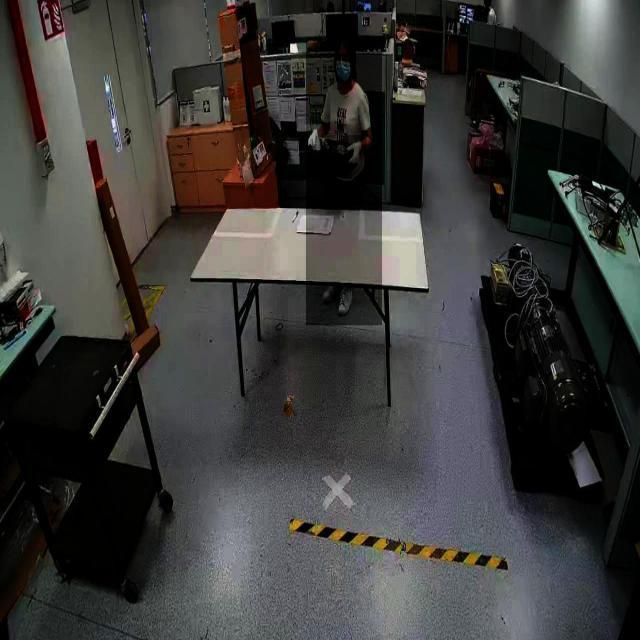gloves: (344, 135, 366, 179), (306, 124, 324, 164)
